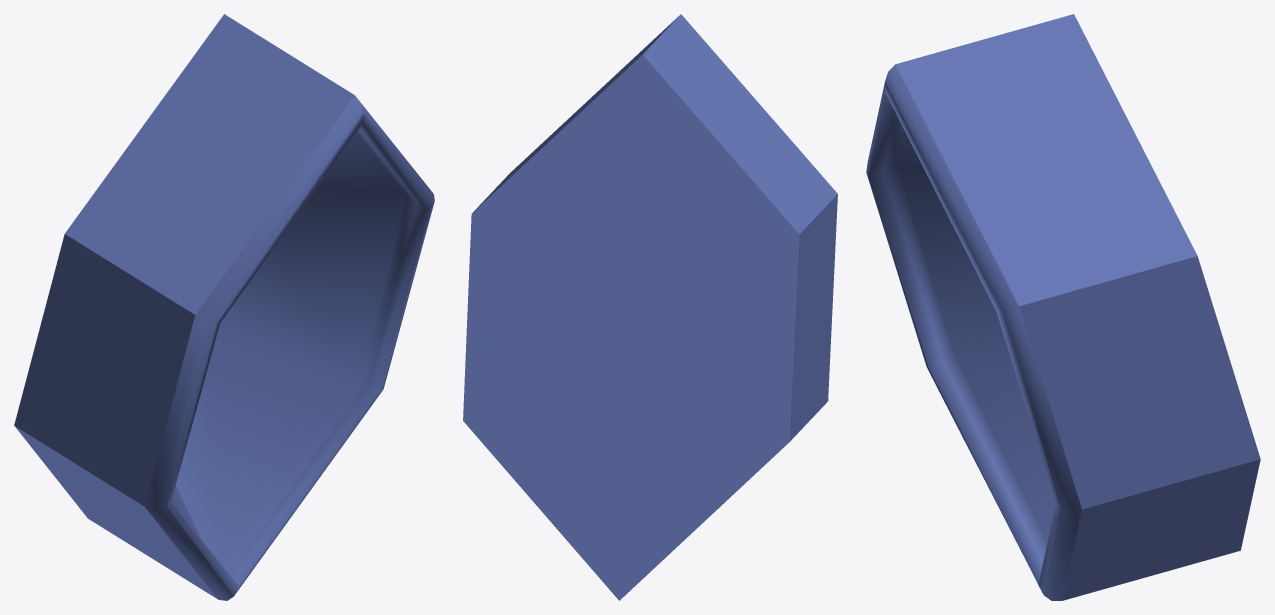
The model's file is BR2_8shapes_Hex_Classic_Metal.001 3.glb.
3 views of the same model, side by side, from view 1: azimuth 30°, elevation 25°; view 2: azimuth 150°, elevation 25°; view 3: azimuth 270°, elevation 25° (orthographic). The views are drawn at different scales.
Parts seen in each view (by area): view 1: BR2_8shapes_Hex_Classic_Metal.001; view 2: BR2_8shapes_Hex_Classic_Metal.001; view 3: BR2_8shapes_Hex_Classic_Metal.001.
Boxes of the visible parts, x1,y1,x2,y2 form: BR2_8shapes_Hex_Classic_Metal.001: [14, 14, 434, 600]; BR2_8shapes_Hex_Classic_Metal.001: [463, 14, 837, 600]; BR2_8shapes_Hex_Classic_Metal.001: [866, 14, 1260, 600].
Bounding box in the file's own units: 0.4408 × 0.6628 × 0.3998.
